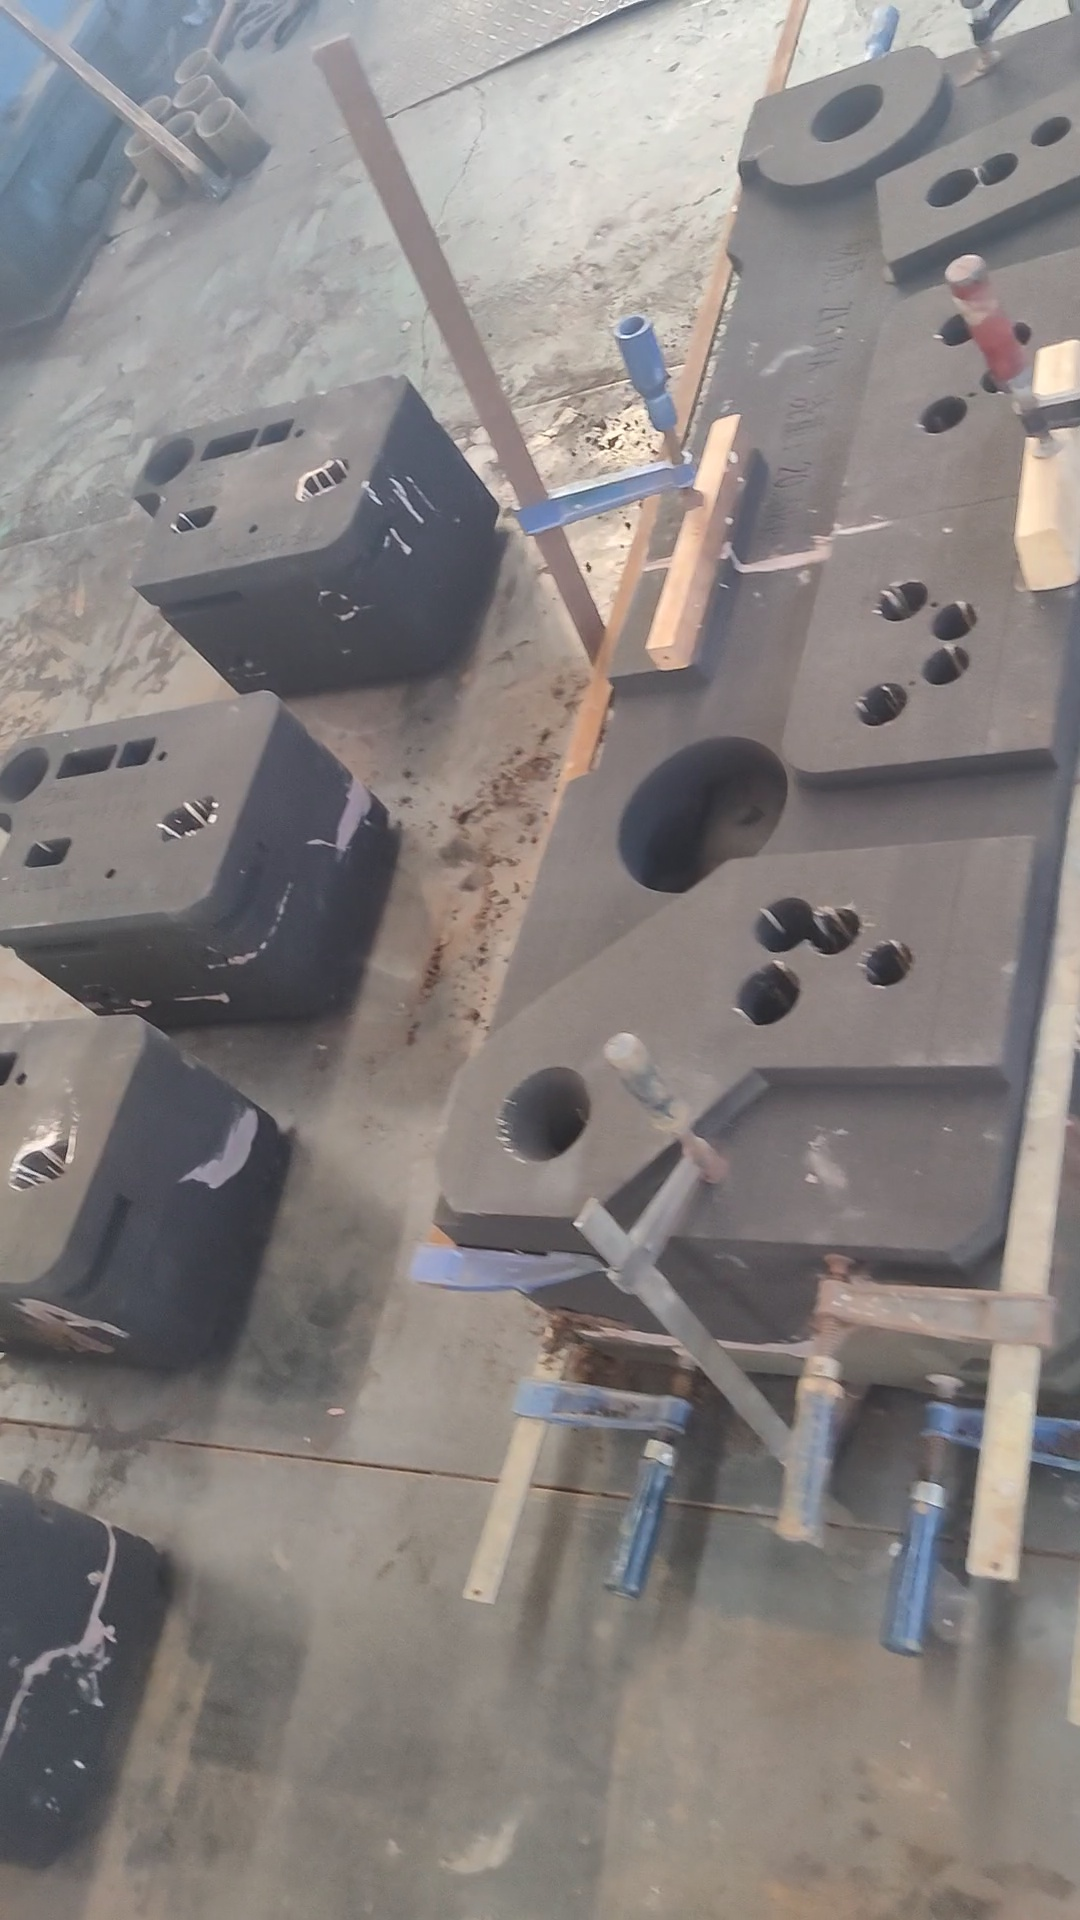pouring hole: (498, 1067, 591, 1163), (810, 83, 884, 142), (1, 742, 49, 804), (142, 436, 193, 483), (196, 98, 233, 135), (173, 47, 210, 80), (171, 75, 210, 107), (160, 109, 195, 142), (133, 95, 170, 123), (124, 129, 158, 156)
